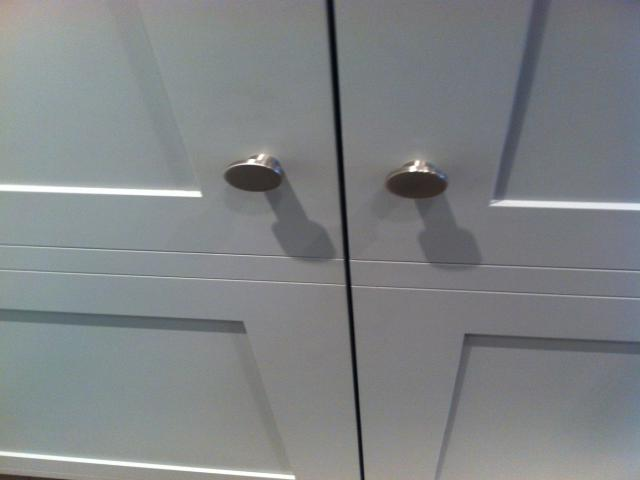Door-handle: (215, 153, 287, 196), (381, 159, 451, 201)
